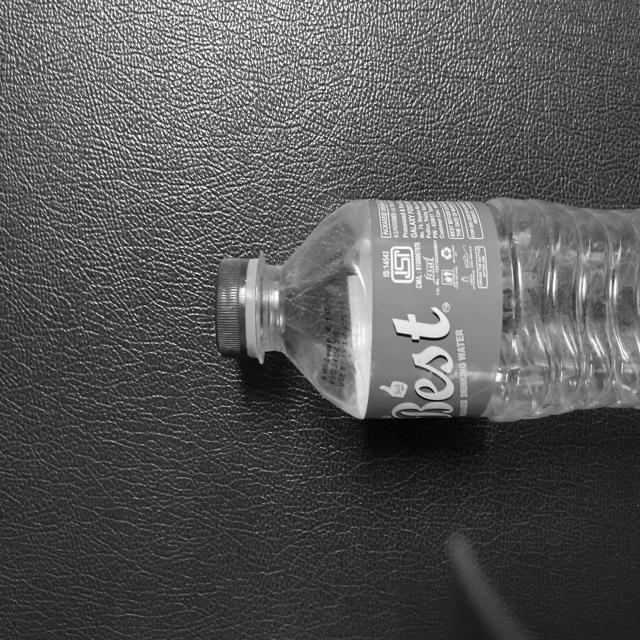Good-cap-Df0S: (215, 255, 269, 362)
